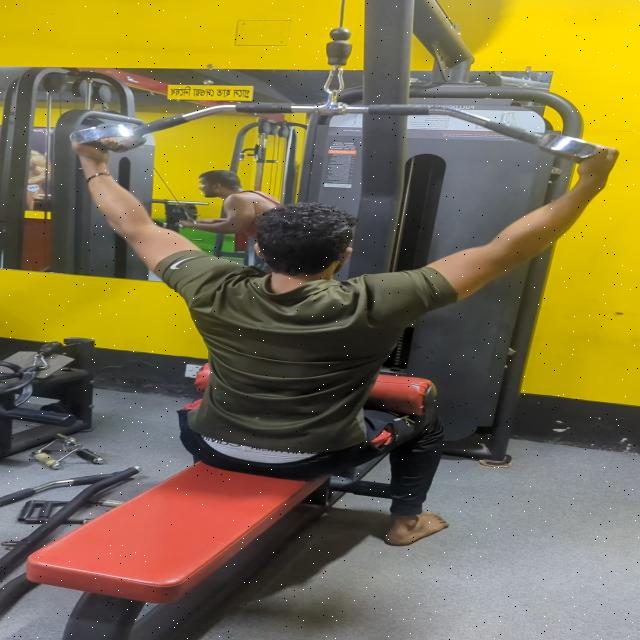Normal_LatPulldown: (0, 94, 640, 564)
